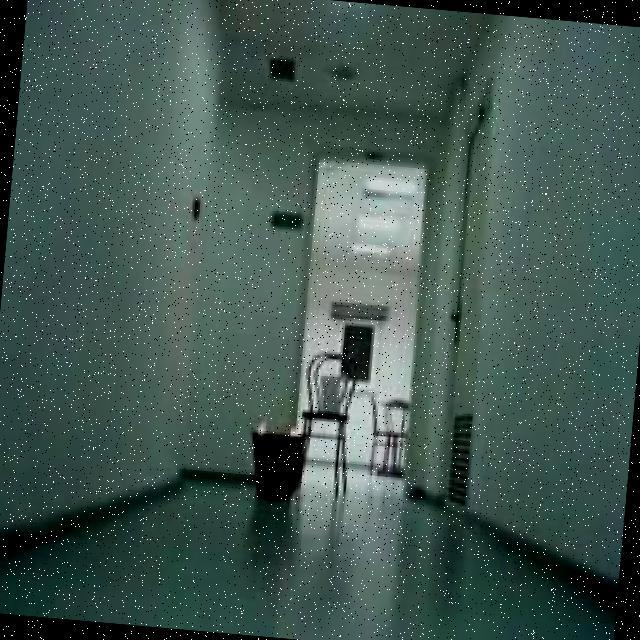Fire: (249, 421, 309, 439)
